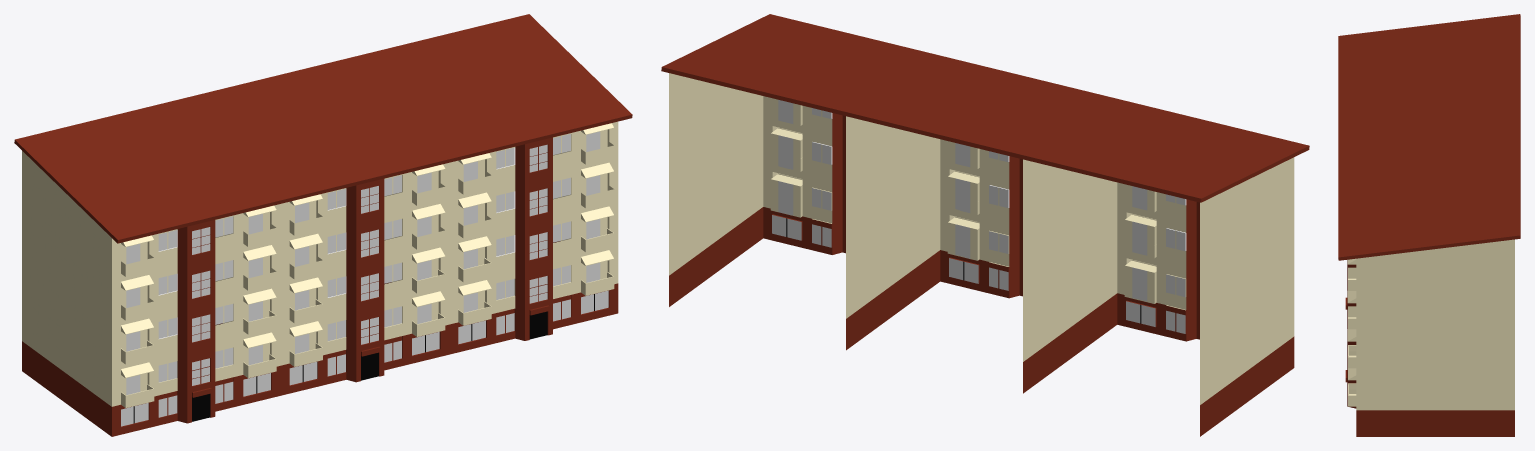
Rendered from building (2).fbx.
3 views of the same model, side by side, from view 1: azimuth 30°, elevation 25°; view 2: azimuth 150°, elevation 25°; view 3: azimuth 270°, elevation 25° (orthographic). The views are drawn at different scales.
Visible parts, largest first — view 1: building up, Plane, building 1, balcony.001, balcony; view 2: building up, building 1, Plane; view 3: Plane, building up, building 1, balcony, balcony.001.
Part boxes in pixels (x1,y1,x2,y2): building up: (22, 121, 618, 362); Plane: (14, 14, 632, 243); building 1: (22, 197, 618, 436); balcony.001: (121, 228, 614, 364); balcony: (121, 272, 614, 407); building up: (669, 73, 1294, 359); building 1: (669, 161, 1294, 436); Plane: (661, 14, 1309, 202); Plane: (1338, 14, 1520, 260); building up: (1347, 239, 1514, 371); building 1: (1345, 297, 1514, 436); balcony: (1348, 383, 1356, 406); balcony.001: (1348, 345, 1356, 368).
Size of the model in its own units: 713 by 305 by 248.
